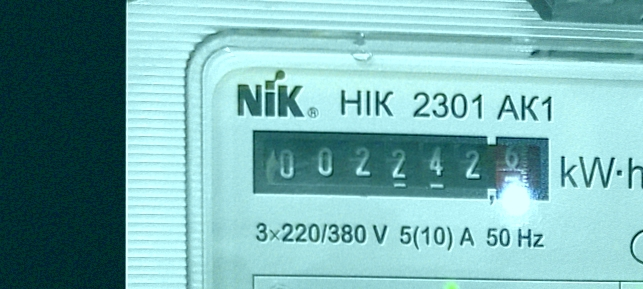0: (277, 147, 297, 181), (315, 145, 334, 178)
2: (353, 146, 372, 178), (390, 147, 407, 180), (464, 149, 481, 181)
4: (428, 145, 444, 178)
6: (504, 143, 519, 170)
screen: (242, 120, 560, 211)
